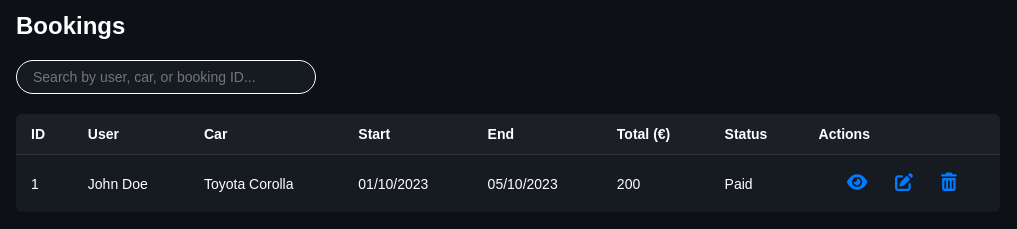
it: Booking Component › filters bookings by search term
Expected: the text "John Doe" is shown, top-left (73, 154), bottom-right (189, 212)
Type "john" into the field with placeholder "Search by user, car, or booking ID..." at point(166, 77), box top-left (16, 60), bottom-right (316, 94)
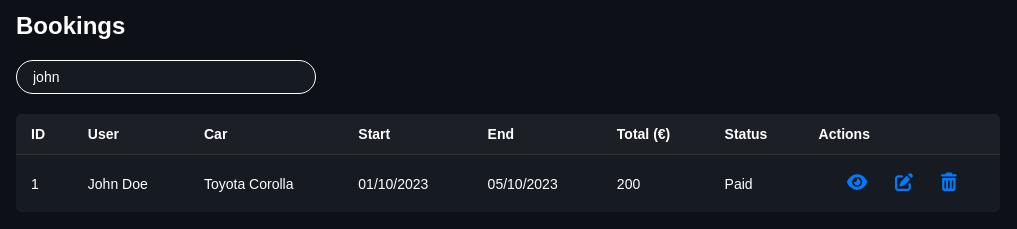
Expected: the text "John Doe" is shown, top-left (73, 154), bottom-right (189, 212)
Replace the text in the field with placeholder "Search by user, car, or booking ID..." with "unknown" at point(166, 77), box top-left (16, 60), bottom-right (316, 94)
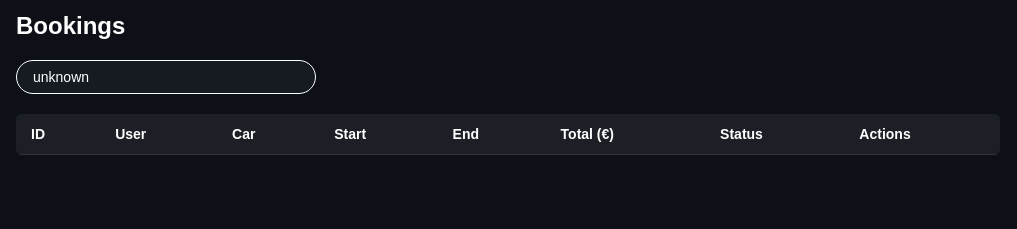
Now the text "John Doe" is gone
